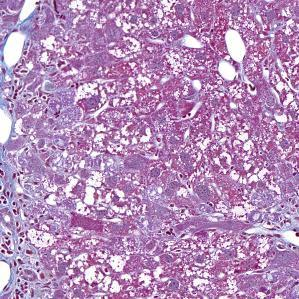fibrosis: (2, 165, 69, 242)
